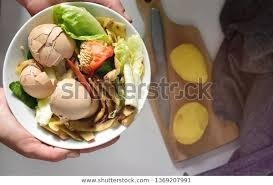kitchen_waste: (45, 74, 99, 124), (52, 2, 116, 42), (113, 37, 146, 107), (25, 26, 77, 68), (169, 98, 213, 147), (167, 41, 210, 87), (18, 60, 58, 101), (74, 39, 119, 75)
metal: (144, 5, 175, 131)
